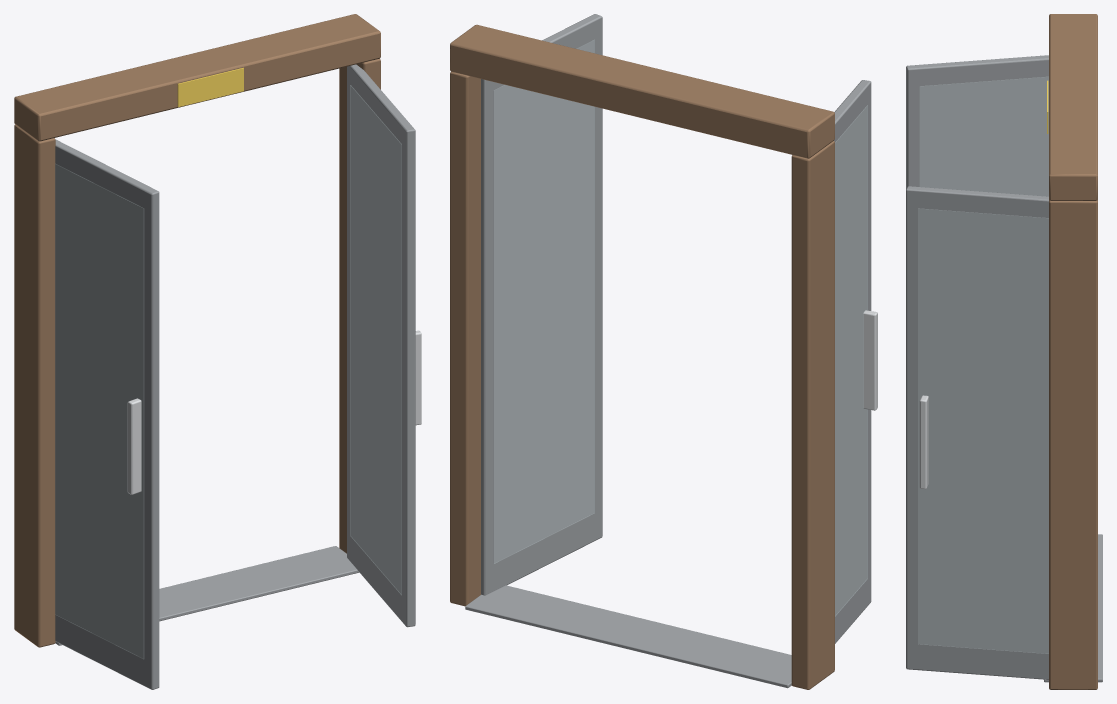
Rendered from DoorFrame.fbx.
The picture shows the model from 3 angles, left to right: view 1: azimuth 30°, elevation 25°; view 2: azimuth 150°, elevation 25°; view 3: azimuth 270°, elevation 25°; orthographic projection. The views are drawn at different scales.
Parts seen in each view (by area): view 1: DoorFrame; view 2: DoorFrame; view 3: DoorFrame.
Boxes of the visible parts, x1=… form: DoorFrame: x1=14, y1=14, x2=421, y2=689; DoorFrame: x1=450, y1=14, x2=877, y2=689; DoorFrame: x1=906, y1=14, x2=1102, y2=689.
Size of the model in its own units: 1.56 by 2.32 by 0.8019.
